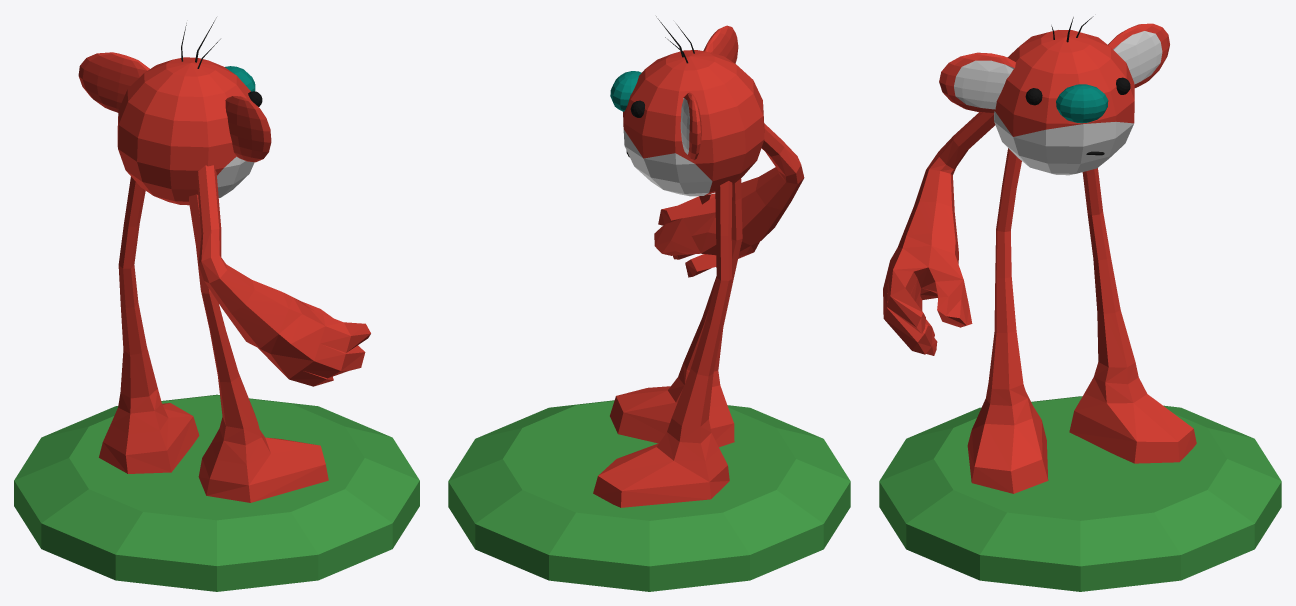
The model's file is ryan.glb.
3 views of the same model, side by side, from view 1: azimuth 30°, elevation 25°; view 2: azimuth 150°, elevation 25°; view 3: azimuth 270°, elevation 25° (orthographic).
Parts seen in each view (by area): view 1: node_MeshObject-1270967296-PolyPaper11; view 2: node_MeshObject-1270967296-PolyPaper11; view 3: node_MeshObject-1270967296-PolyPaper11.
Part boxes in pixels (left/top/right/bottom): node_MeshObject-1270967296-PolyPaper11: left=14, top=17, right=419, bottom=591; node_MeshObject-1270967296-PolyPaper11: left=448, top=16, right=850, bottom=591; node_MeshObject-1270967296-PolyPaper11: left=879, top=16, right=1281, bottom=591.
Bounding box in the file's own units: 1.14 × 1.53 × 1.14.
